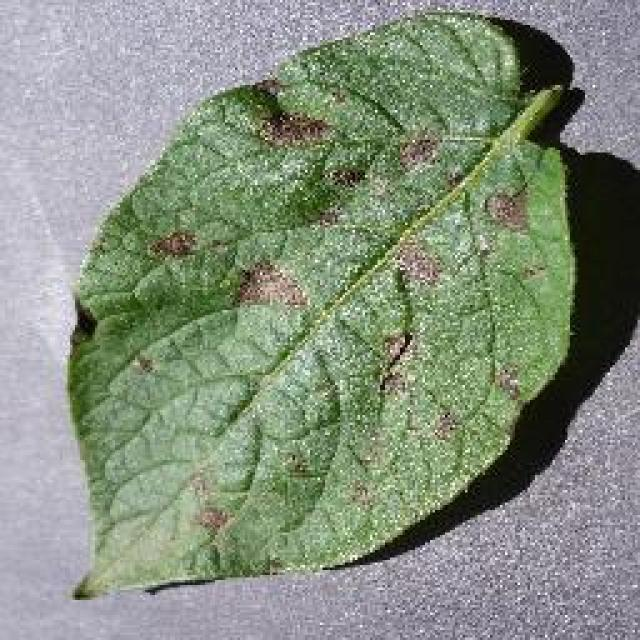Potato___Early_blight: (63, 9, 578, 607)
